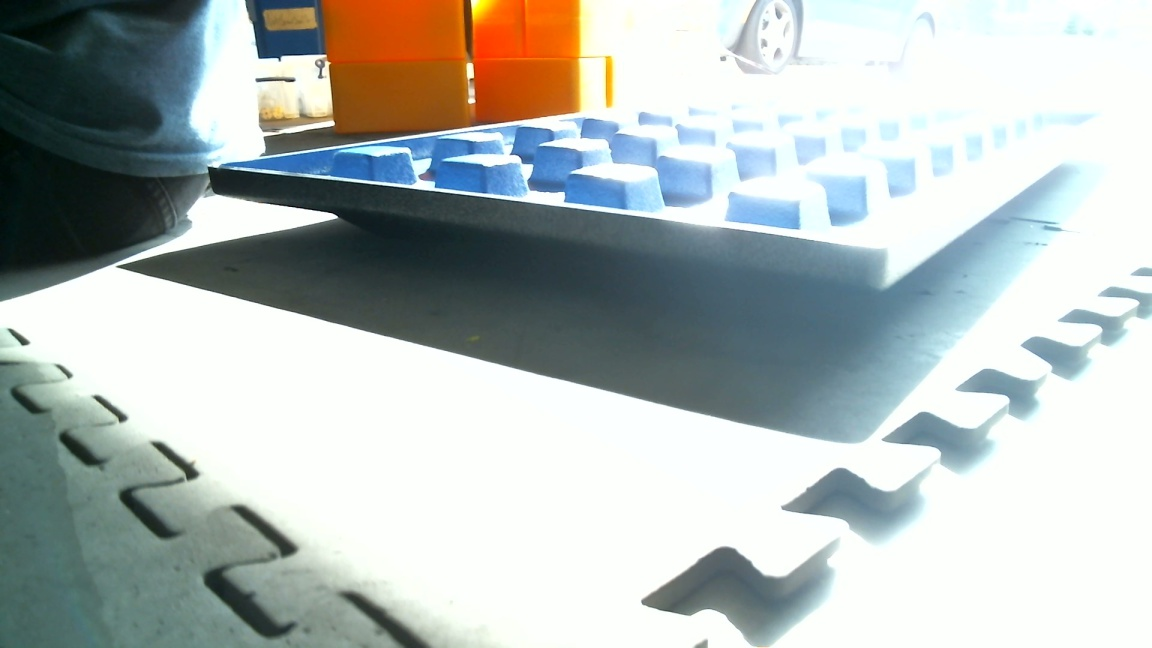blue_foundation: (222, 77, 1117, 301)
